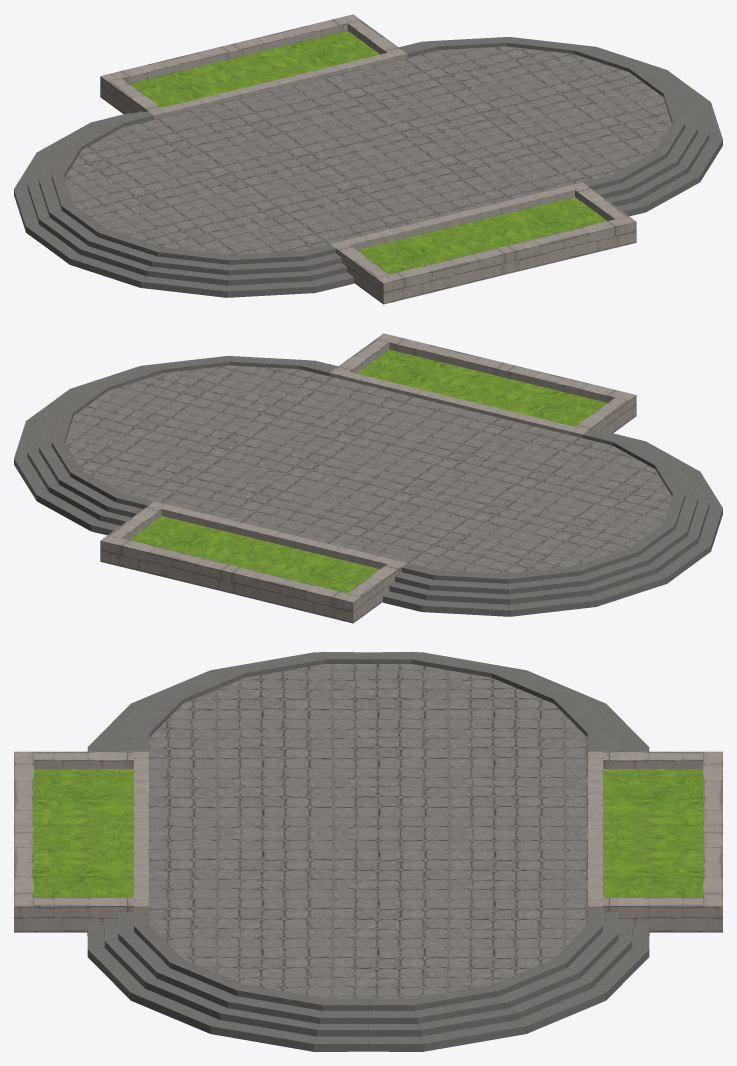
File: Plaza_B.fbx
3 views of the same model, one above another, from view 1: azimuth 30°, elevation 25°; view 2: azimuth 150°, elevation 25°; view 3: azimuth 270°, elevation 25° (orthographic). The views are drawn at different scales.
Visible parts, largest first — view 1: Plaza_B; view 2: Plaza_B; view 3: Plaza_B.
Part boxes in pixels (x1=…): Plaza_B: x1=14, y1=14, x2=722, y2=304; Plaza_B: x1=14, y1=333, x2=722, y2=623; Plaza_B: x1=14, y1=652, x2=722, y2=1051.
Bounding box in the file's own units: 2189 × 70.57 × 1675.
4 materials, 4 textured.
